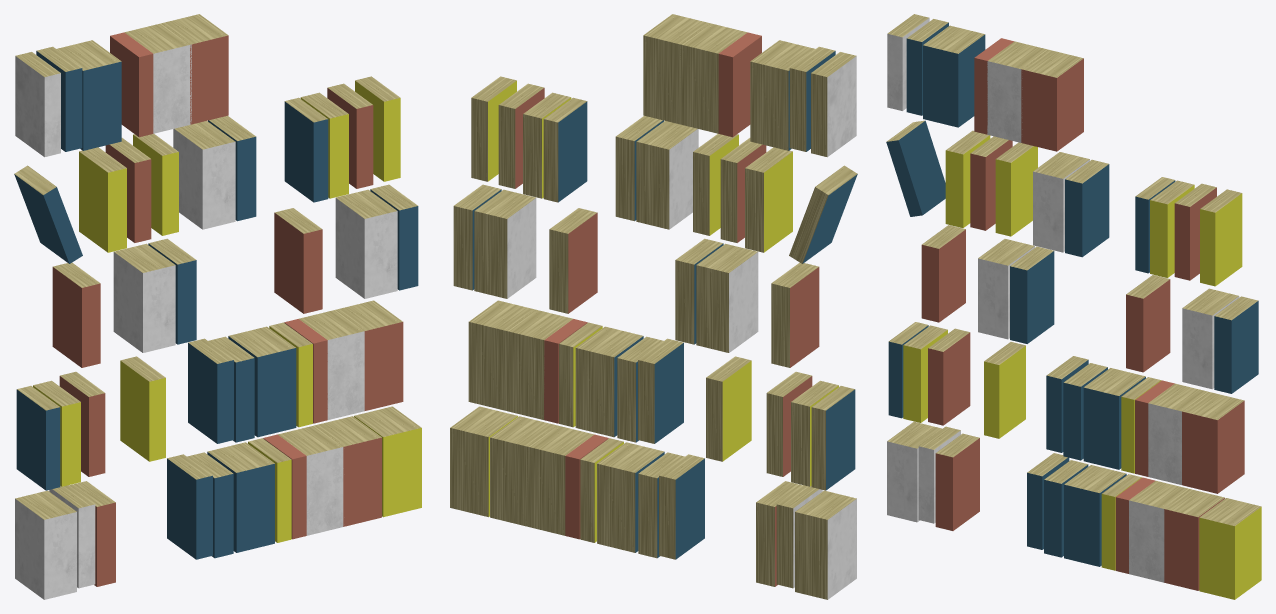
Rendered from BookShelf_Small_Thin_Books_01_LOD01.FBX.
3 renders of one model, left to right at view 1: azimuth 30°, elevation 25°; view 2: azimuth 150°, elevation 25°; view 3: azimuth 330°, elevation 25°, orthographic. The views are drawn at different scales.
Visible parts, largest first — view 1: BookShelf_Small_Thin_Books_01_LOD01; view 2: BookShelf_Small_Thin_Books_01_LOD01; view 3: BookShelf_Small_Thin_Books_01_LOD01.
Part boxes in pixels (x1,y1,x2,y2): BookShelf_Small_Thin_Books_01_LOD01: [14, 14, 421, 599]; BookShelf_Small_Thin_Books_01_LOD01: [450, 14, 857, 599]; BookShelf_Small_Thin_Books_01_LOD01: [886, 14, 1261, 599].
Size of the model in its own units: 1.8 by 2.38 by 0.2413.
Materials: 5 (2 with a texture image).
